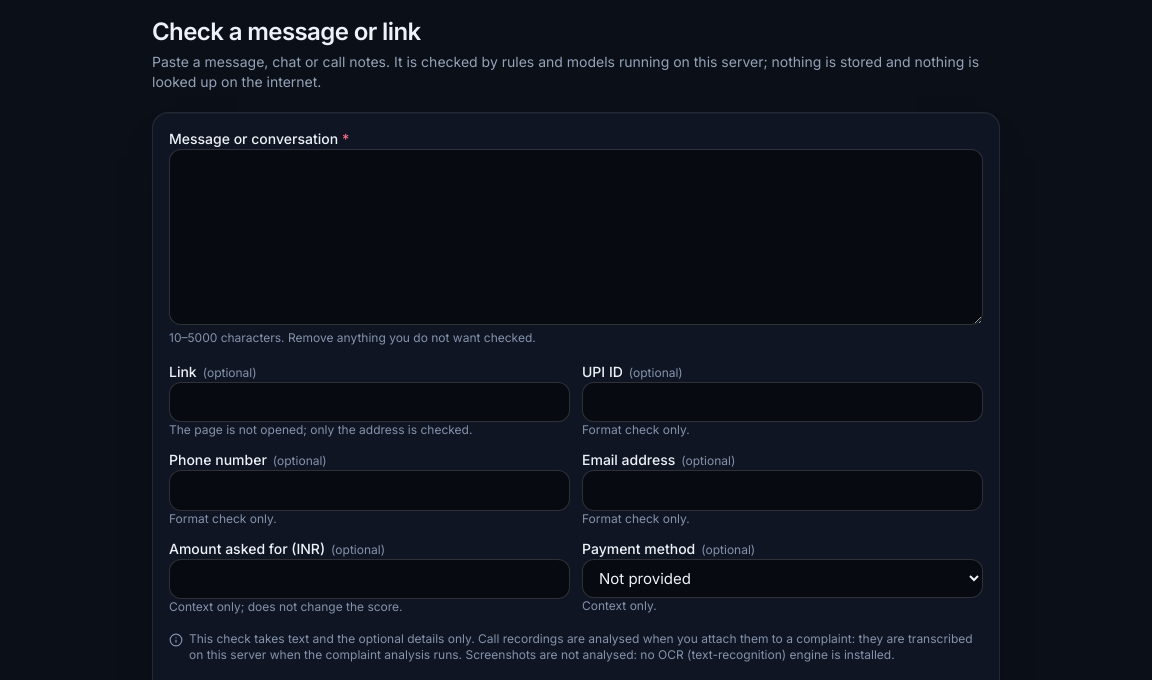
it: check a message or link › no indicators found: neutral wording, never 'safe' or 'low risk', category marked as not evidence (mocked API)
Type "We are pleased to offer you the position of analyst." into the text box with test id "chk-text".
click(576, 237); type("We are pleased to offer you the position of analyst.")  # box [169,149,983,324]
(page scrolled)
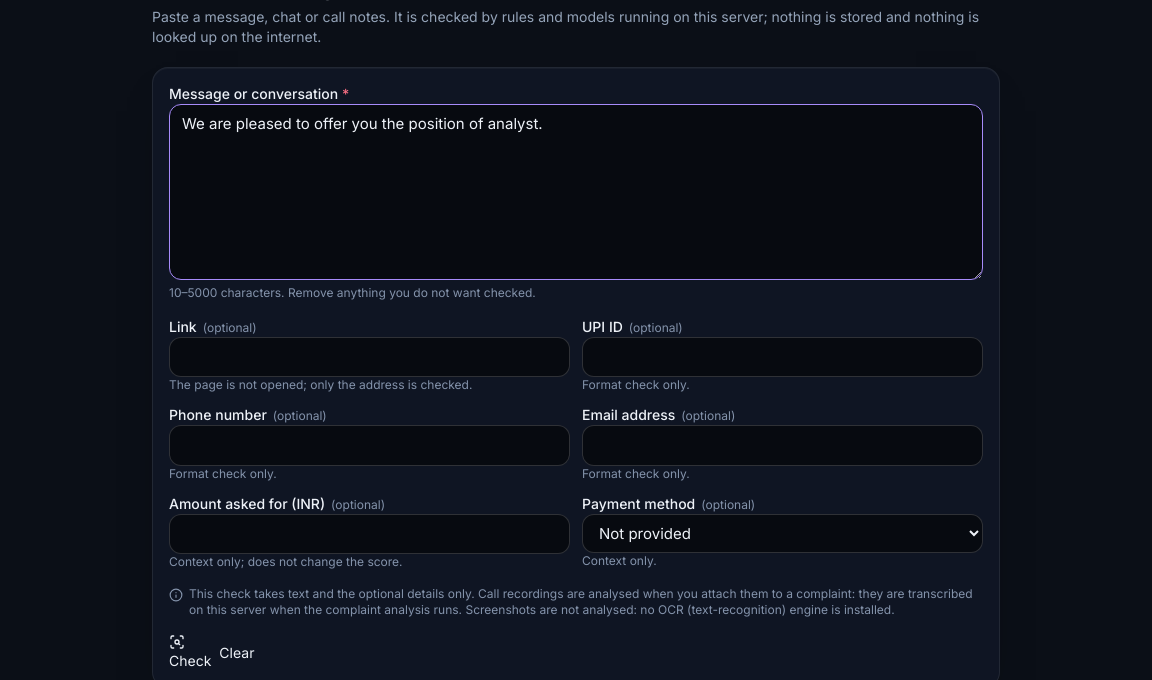
Click the button with test id "chk-submit".
click(190, 652)  # box [169,634,211,671]
(page scrolled)
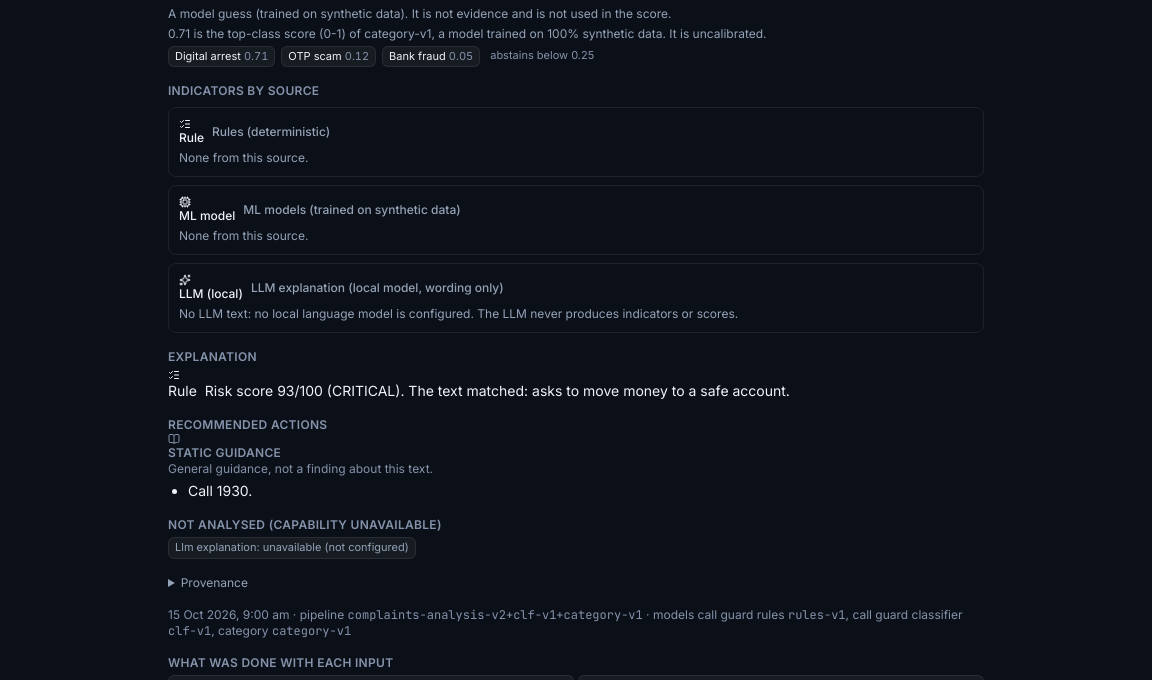
Result: the text with test id "category-not-evidence" shows "not used in the score" at [168,6,672,20]
